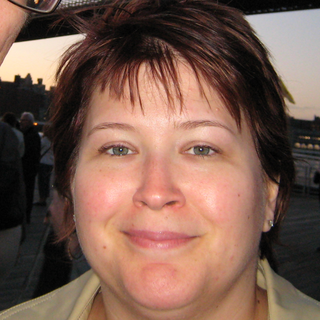eye: (173, 138, 231, 164), (96, 138, 147, 163)
